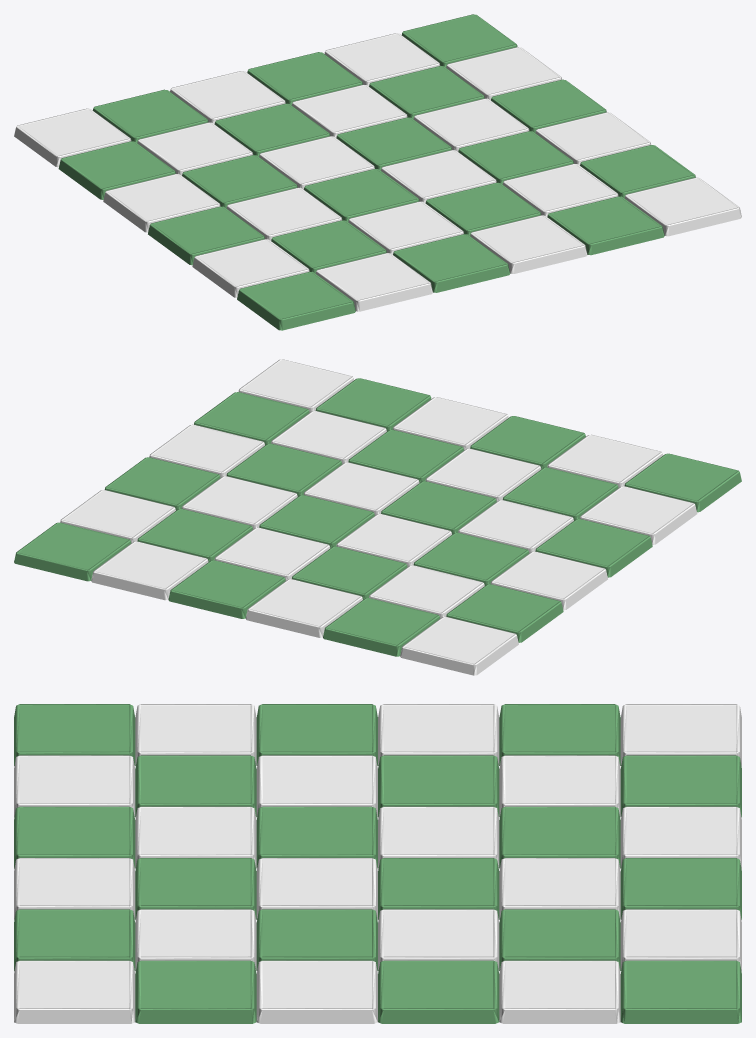
File: dapur2.obj
3 views of the same model, one above another, from view 1: azimuth 30°, elevation 25°; view 2: azimuth 150°, elevation 25°; view 3: azimuth 270°, elevation 25° (orthographic). The views are drawn at different scales.
Parts seen in each view (by area): view 1: Floor_tile_Cube.067; view 2: Floor_tile_Cube.067; view 3: Floor_tile_Cube.067.
Part boxes in pixels (left/top/right/bottom): Floor_tile_Cube.067: left=14, top=14, right=741, bottom=330; Floor_tile_Cube.067: left=14, top=359, right=741, bottom=675; Floor_tile_Cube.067: left=14, top=704, right=741, bottom=1023.
Size of the model in its own units: 7.87 by 0.164 by 7.87.
